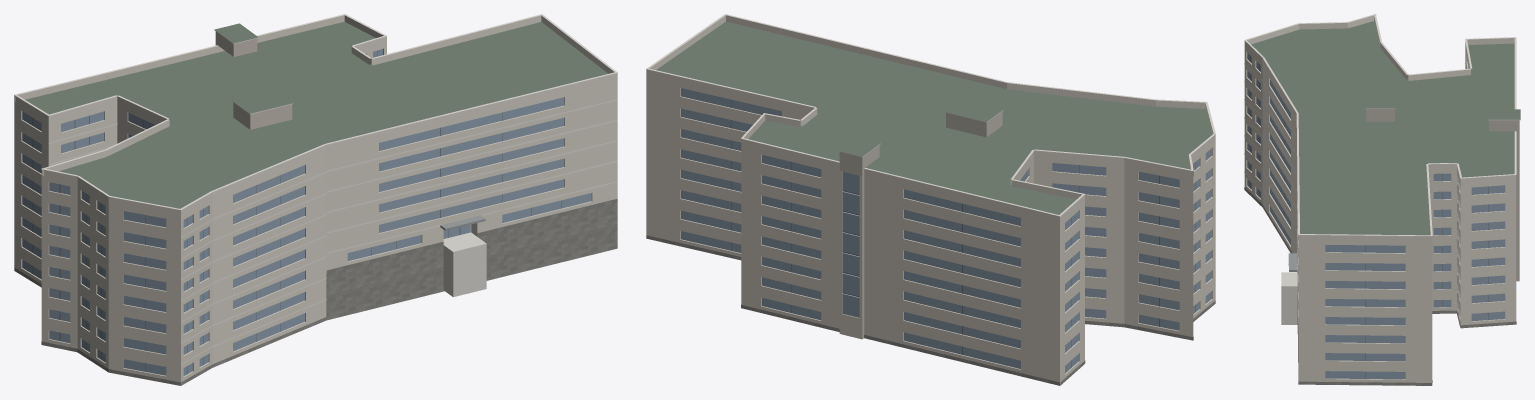
The picture shows the model from 3 angles, left to right: view 1: azimuth 30°, elevation 25°; view 2: azimuth 150°, elevation 25°; view 3: azimuth 270°, elevation 25°; orthographic projection. The views are drawn at different scales.
Parts seen in each view (by area): view 1: b950__wall, b950__roof, b950__glass, b950__base, b950__parapet, b950__trim, b950__entranceStair, b950__wall2, b950__frame; view 2: b950__wall, b950__roof, b950__glass, b950__parapet, b950__trim, b950__base, b950__wall2, b950__frame; view 3: b950__roof, b950__wall, b950__glass, b950__parapet, b950__trim, b950__wall2, b950__base, b950__entranceStair, b950__frame.
Boxes of the visible parts, <box> form: b950__wall: <box>14,42,617,385</box>; b950__roof: <box>25,21,607,319</box>; b950__glass: <box>22,49,591,375</box>; b950__base: <box>14,198,617,385</box>; b950__parapet: <box>14,15,617,216</box>; b950__trim: <box>14,14,617,365</box>; b950__entranceStair: <box>443,232,486,297</box>; b950__wall2: <box>215,31,292,129</box>; b950__frame: <box>32,50,561,373</box>; b950__wall: <box>646,75,1215,385</box>; b950__roof: <box>656,21,1212,214</box>; b950__glass: <box>681,88,1211,373</box>; b950__parapet: <box>646,15,1215,222</box>; b950__trim: <box>646,14,1215,216</box>; b950__base: <box>646,235,1215,385</box>; b950__wall2: <box>839,111,1002,338</box>; b950__frame: <box>731,100,1195,367</box>; b950__roof: <box>1251,21,1520,235</box>; b950__wall: <box>1244,45,1516,382</box>; b950__glass: <box>1247,53,1504,379</box>; b950__parapet: <box>1244,15,1516,241</box>; b950__trim: <box>1244,14,1520,309</box>; b950__wall2: <box>1366,108,1519,281</box>; b950__base: <box>1244,187,1516,385</box>; b950__entranceStair: <box>1281,272,1297,324</box>; b950__frame: <box>1250,55,1488,378</box>.
Size of the model in its own units: 95.09 by 32.33 by 49.97.
Materials: 11 (1 with a texture image).
